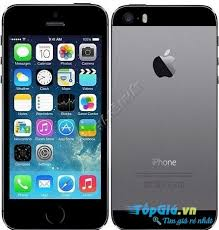iphone: (109, 4, 219, 230), (1, 1, 109, 227)
iphone5: (1, 1, 107, 230)
